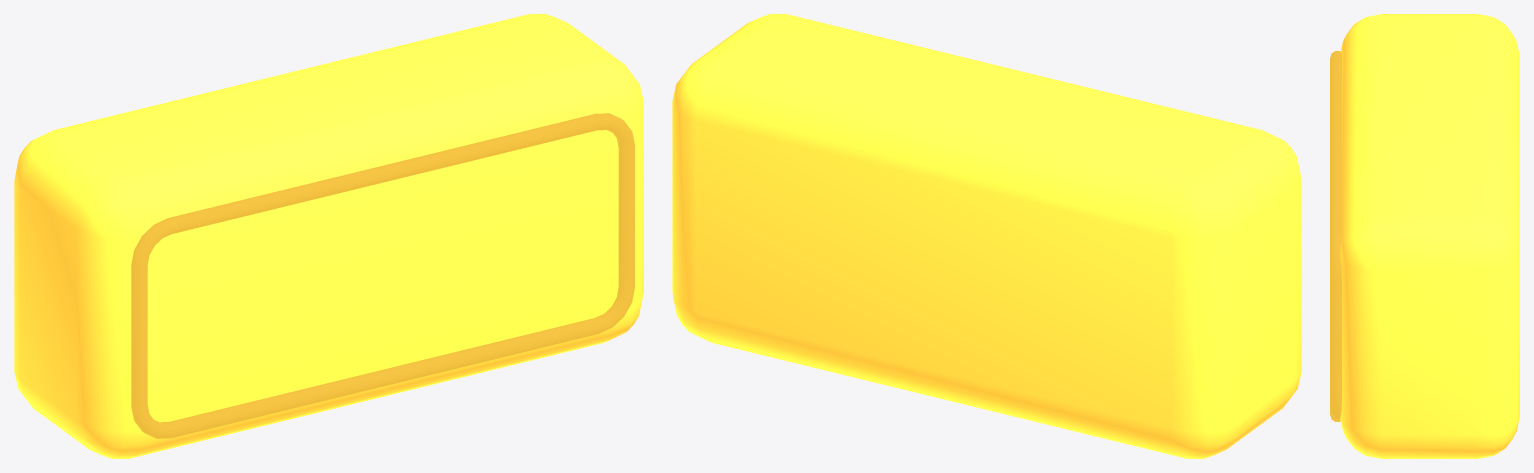
File: brick_glass.glb
The picture shows the model from 3 angles, left to right: view 1: azimuth 30°, elevation 25°; view 2: azimuth 150°, elevation 25°; view 3: azimuth 270°, elevation 25°; orthographic projection. The views are drawn at different scales.
Visible parts, largest first — view 1: type_glass; view 2: type_glass; view 3: type_glass.
Boxes of the visible parts, x1,y1,x2,y2 form: type_glass: (14, 14, 643, 458); type_glass: (672, 14, 1301, 458); type_glass: (1330, 14, 1519, 458).
Size of the model in its own units: 0.92 by 0.44 by 0.316.
